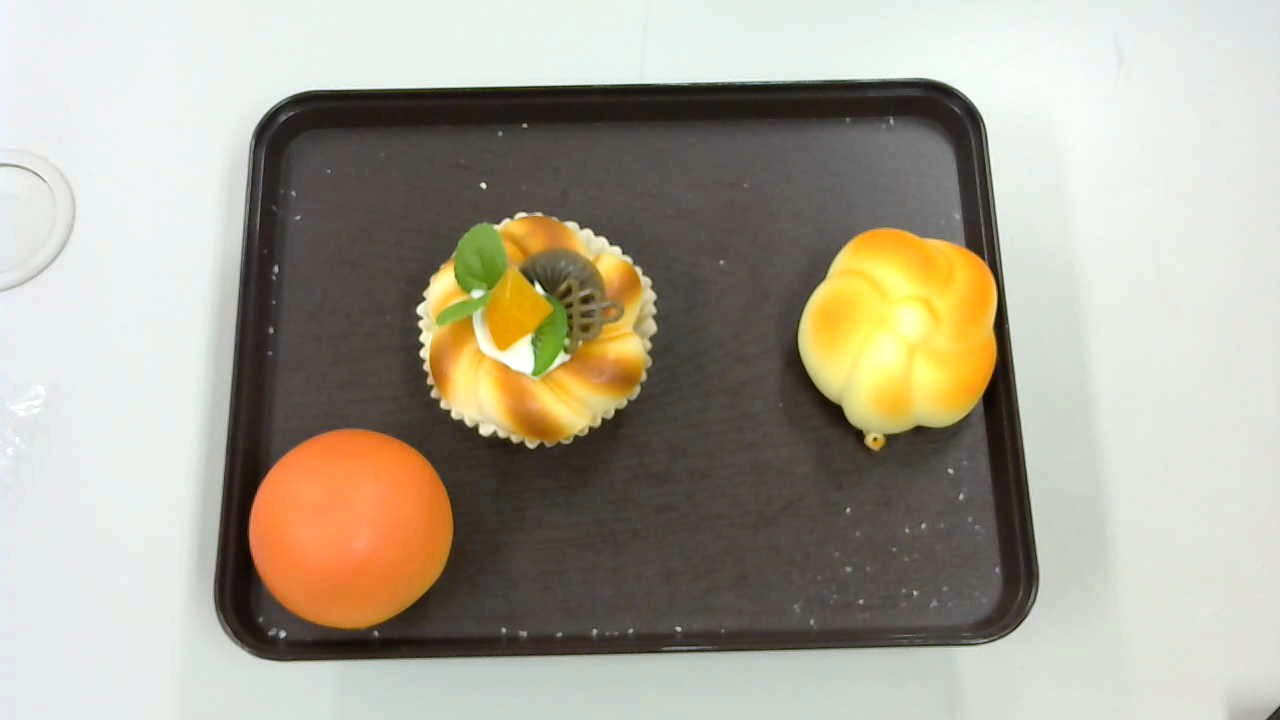bun: (249, 427, 451, 632)
croissant: (796, 226, 999, 451)
fruit tart: (415, 212, 656, 447)
